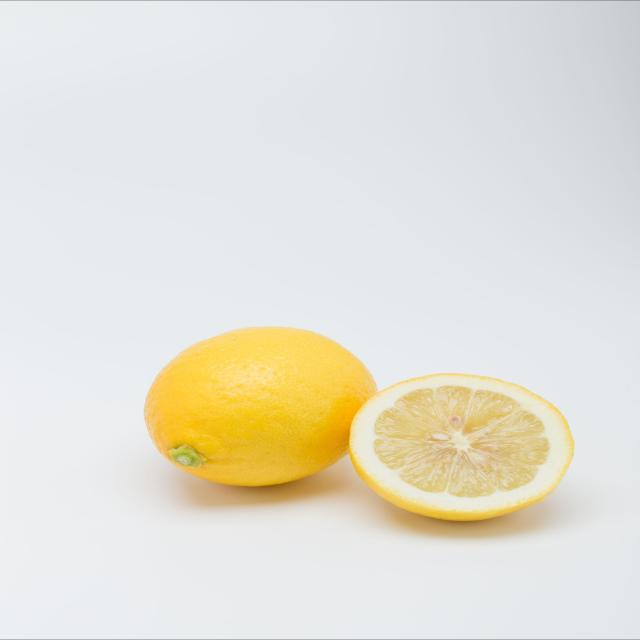lemon: (140, 324, 380, 489), (346, 371, 579, 526)
